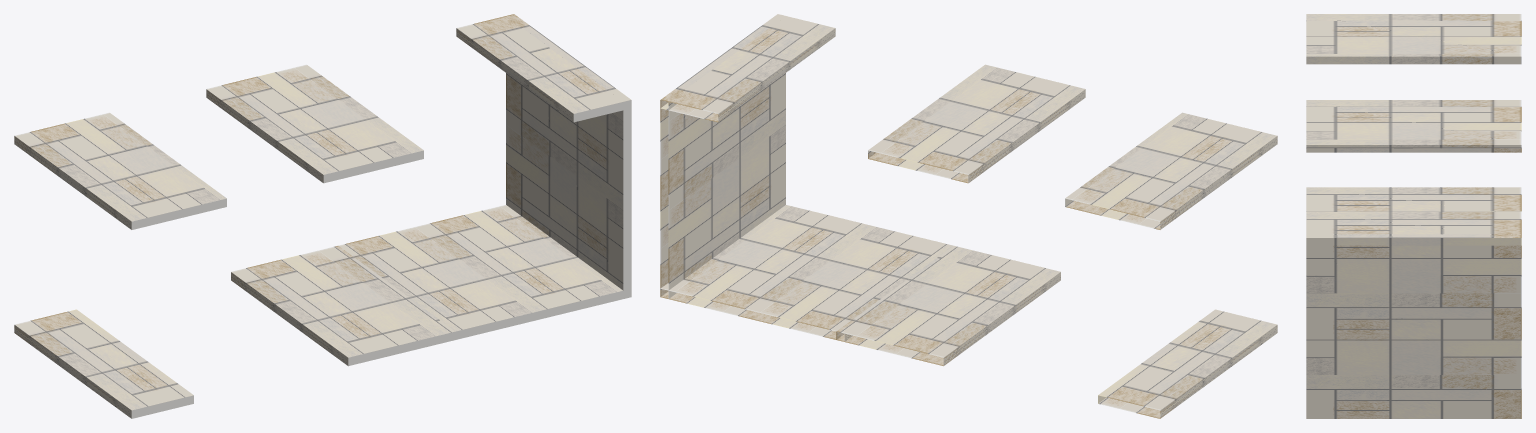
File: wall_2.obj
The picture shows the model from 3 angles, left to right: view 1: azimuth 30°, elevation 25°; view 2: azimuth 150°, elevation 25°; view 3: azimuth 270°, elevation 25°; orthographic projection. The views are drawn at different scales.
Visible parts, largest first — view 1: walls; view 2: walls; view 3: walls.
Boxes of the visible parts, left/top/right/bottom form: walls: left=14, top=14, right=631, bottom=418; walls: left=660, top=14, right=1277, bottom=418; walls: left=1306, top=14, right=1521, bottom=418.
Bounding box in the file's own units: 6.15 × 2.32 × 2.5.
Materials: 1 (1 with a texture image).
